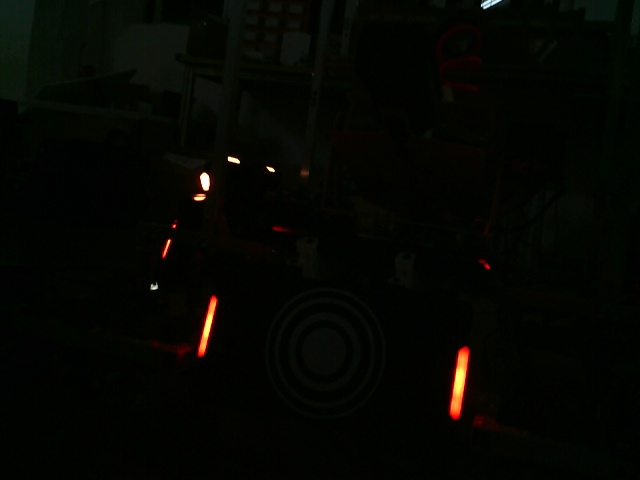lamp: (448, 345, 474, 423), (199, 293, 220, 360)
